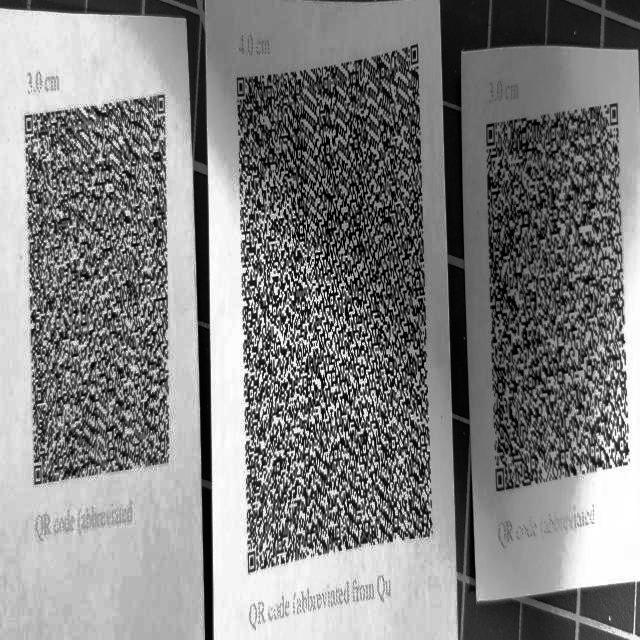qr_code: (227, 17, 443, 610), (14, 31, 177, 504), (481, 76, 635, 555)
